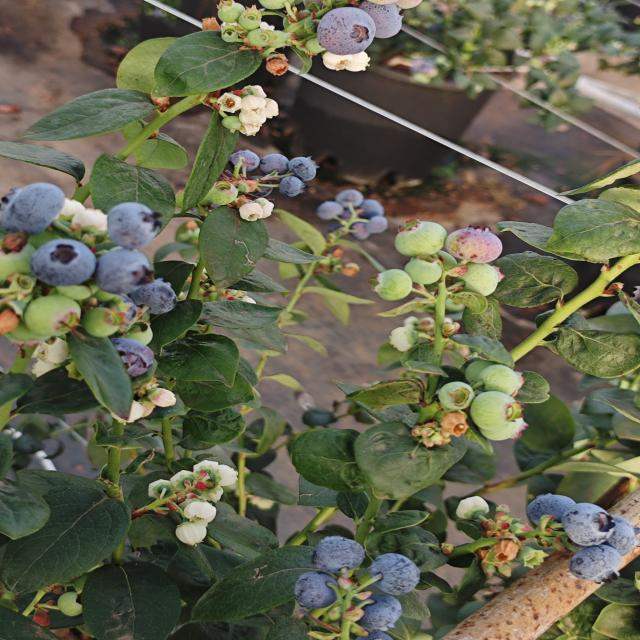ripe: (1, 181, 68, 237), (27, 237, 99, 289), (313, 6, 378, 58), (102, 201, 166, 252), (321, 187, 383, 238), (561, 542, 627, 588), (96, 248, 157, 296), (365, 552, 423, 598), (560, 498, 614, 546), (308, 534, 367, 577), (523, 491, 581, 533), (126, 276, 182, 318), (593, 514, 638, 561), (289, 572, 343, 610), (106, 337, 158, 372), (354, 3, 409, 36), (356, 598, 404, 632), (290, 152, 323, 180), (238, 175, 272, 202), (230, 145, 262, 173), (259, 150, 292, 177), (276, 175, 309, 198), (348, 630, 398, 640)
